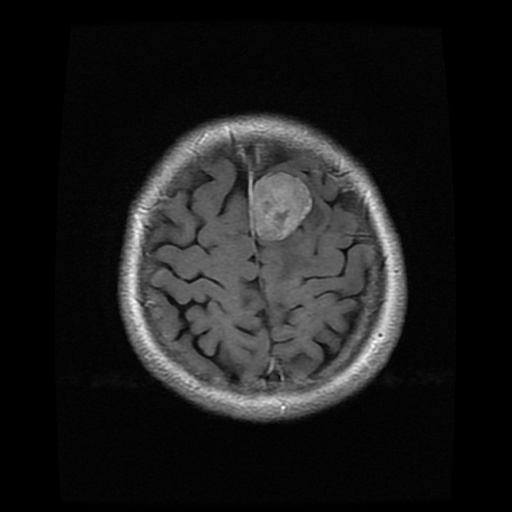meningioma: (254, 172, 309, 236)
